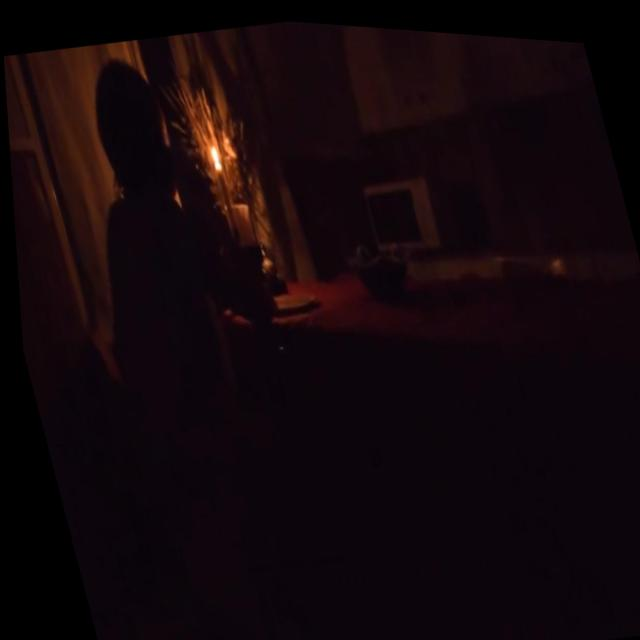fire: (203, 135, 223, 168)
